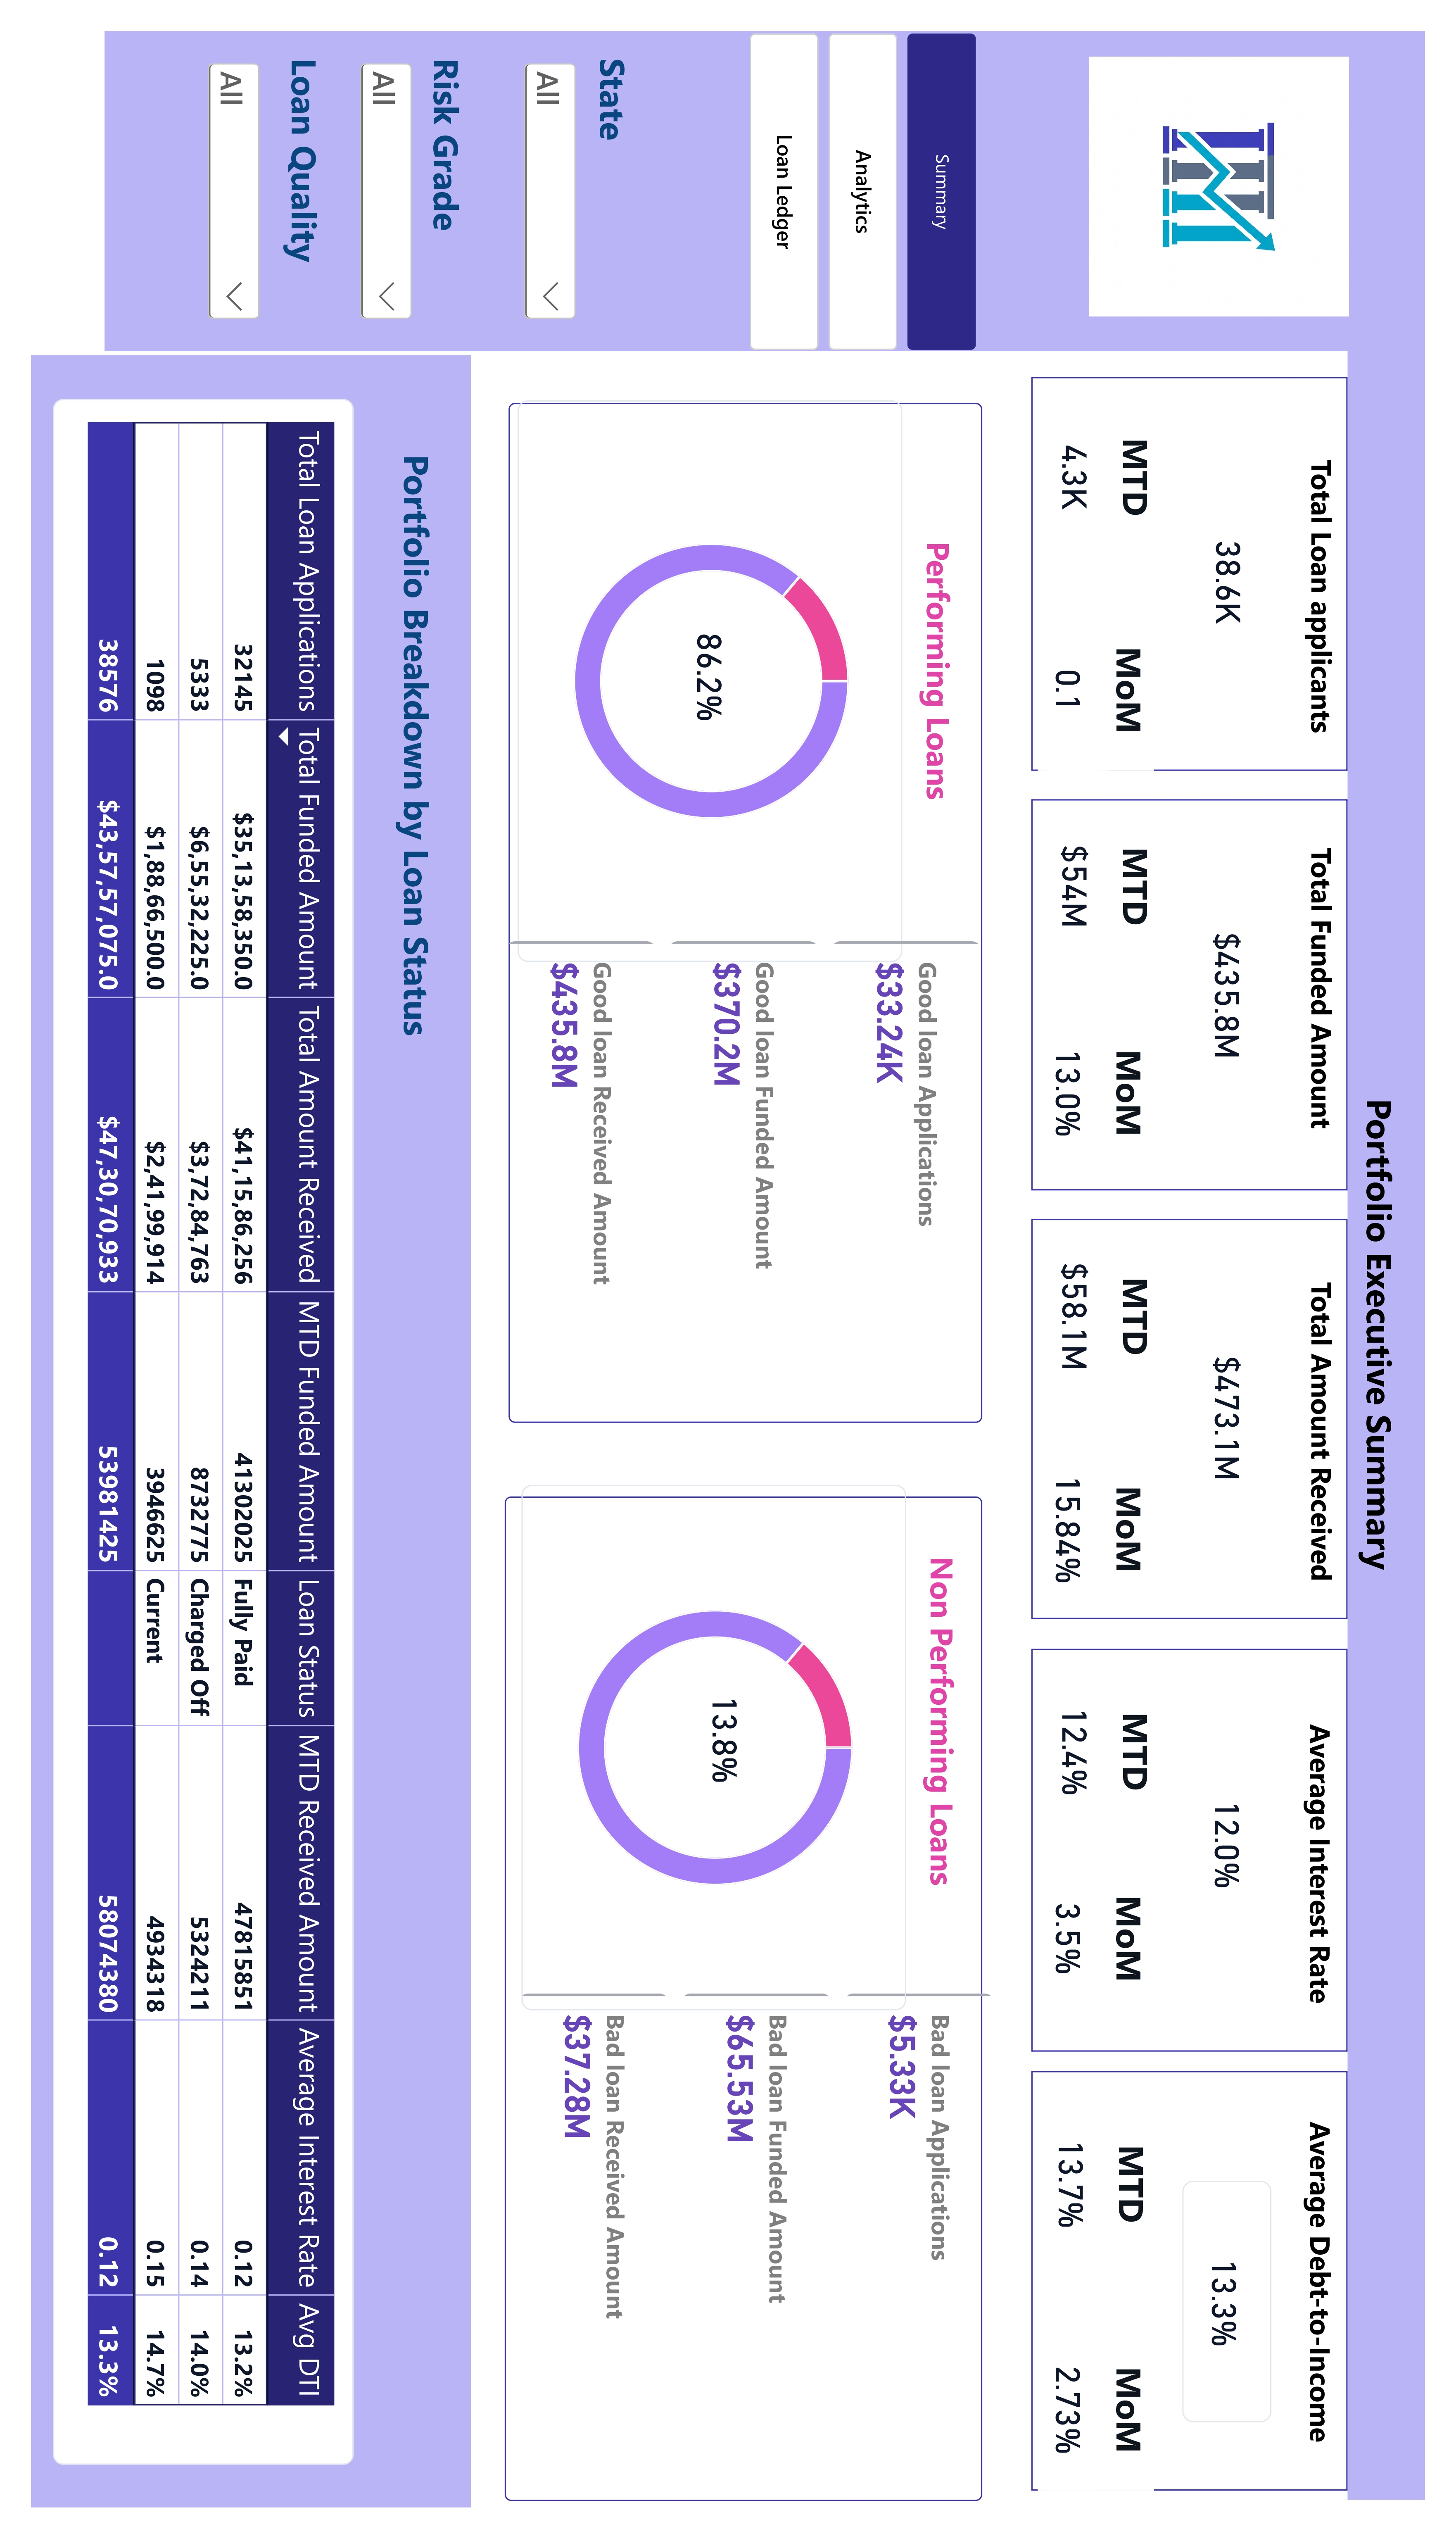

Layout of this report page (visuals, bound fields, positions):
{"tool":"powerbi","page":{"name":"Summary","canvas":[1920,1080],"ordinal":0},"visuals":[{"type":"shape","box":[0,0,247.5,1022.5],"z":0},{"type":"shape","box":[0,0,1911.7,60],"z":1000},{"type":"shape","box":[267.5,60,305,245],"z":2000},{"type":"cardVisual","fields":{"Data":["Bank_Loan_data.Total Loan Applications"]},"box":[345,137.5,165,72.5],"z":3000},{"type":"textbox","box":[327.5,65,220,50],"z":4000},{"type":"cardVisual","title":"MTD","fields":{"Data":["Bank_Loan_data.MTD Loan Applicants"]},"box":[282.5,205,125,95],"z":5000},{"type":"cardVisual","title":"MoM","fields":{"Data":["Bank_Loan_data.MoM Loan Applications"]},"box":[447.5,210,125,90],"z":6000},{"type":"cardVisual","fields":{"Data":["Bank_Loan_data.Total Loan Applications"]},"box":[725,152.5,152.5,72.5],"z":7000},{"type":"textbox","box":[572.5,0,665,65],"z":8000},{"type":"shape","box":[287.5,342.5,790,367.5],"z":9000},{"type":"shape","box":[1134.3,342.5,777.5,367.5],"z":10000},{"type":"cardVisual","fields":{"Data":["Bank_Loan_data.Total Loan Applications"]},"box":[1032.5,160,152.5,72.5],"z":11000},{"type":"cardVisual","fields":{"Data":["Bank_Loan_data.Total Loan Applications"]},"box":[1702.5,160,152.5,72.5],"z":12000},{"type":"cardVisual","fields":{"Data":["Bank_Loan_data.Total Loan Applications"]},"box":[1372.5,160,152.5,72.5],"z":13000},{"type":"cardVisual","title":"MTD","fields":{"Data":["Bank_Loan_data.MTD Loan Applicants"]},"box":[1640,210,125,95],"z":14000},{"type":"cardVisual","title":"MTD","fields":{"Data":["Bank_Loan_data.MTD Loan Applicants"]},"box":[1332.5,210,125,95],"z":15000},{"type":"cardVisual","title":"MTD","fields":{"Data":["Bank_Loan_data.MTD Loan Applicants"]},"box":[945,210,125,95],"z":16000},{"type":"cardVisual","title":"MTD","fields":{"Data":["Bank_Loan_data.MTD Loan Applicants"]},"box":[635,210,125,95],"z":17000},{"type":"shape","box":[920,60,310,245],"z":18000},{"type":"shape","box":[595,60,302.5,245],"z":19000},{"type":"shape","box":[1252.5,60,312.5,245],"z":20000},{"type":"shape","box":[1580,60,325,245],"z":21000},{"type":"cardVisual","fields":{"Data":["Bank_Loan_data.Avg DTI"]},"box":[1682.5,117.5,165,72.5],"z":22000},{"type":"cardVisual","fields":{"Data":["Bank_Loan_data.Average Interest Rate"]},"box":[1312.5,132.5,165,72.5],"z":23000},{"type":"cardVisual","fields":{"Data":["Bank_Loan_data.Total Amount Received"]},"box":[987.5,125,165,72.5],"z":24000},{"type":"cardVisual","fields":{"Data":["Bank_Loan_data.Total Funded Amount"]},"box":[635,137.5,207.5,72.5],"z":25000},{"type":"cardVisual","title":"MTD","fields":{"Data":["Bank_Loan_data.MTD avg DTI"]},"box":[1610,207.5,115,95],"z":26000},{"type":"cardVisual","title":"MTD","fields":{"Data":["Bank_Loan_data.MTD avg Interest Rate"]},"box":[1270,205,125,95],"z":27000},{"type":"donutChart","fields":{"Category":["Bank_Loan_data.Good vs Bad Loan"],"Y":["Bank_Loan_data.Total Loan Applications"]},"box":[277.5,410,435,297.5],"z":28000},{"type":"cardVisual","title":"MTD","fields":{"Data":["Bank_Loan_data.MTD Received Amount"]},"box":[932.5,205,125,95],"z":29000},{"type":"cardVisual","title":"MTD","fields":{"Data":["Bank_Loan_data.MTD Funded Amount"]},"box":[600,205,125,95],"z":30000},{"type":"cardVisual","title":"MoM","fields":{"Data":["Bank_Loan_data.MoM Avg DTI"]},"box":[1780,210,125,90],"z":31000},{"type":"cardVisual","title":"MoM","fields":{"Data":["Bank_Loan_data.MoM avg int rate"]},"box":[1415,210,125,90],"z":32000},{"type":"cardVisual","title":"MoM","fields":{"Data":["Bank_Loan_data.MoM Total Received Amount"]},"box":[1097.5,210,125,90],"z":33000},{"type":"shape","box":[252.5,740,1665,340],"z":34000},{"type":"cardVisual","title":"MoM","fields":{"Data":["Bank_Loan_data.MoM Total Funded Amount"]},"box":[760,210,125,90],"z":35000},{"type":"textbox","box":[1287.5,60,265,57.5],"z":36000},{"type":"textbox","box":[940,65,290,52.5],"z":37000},{"type":"textbox","box":[1610,65,295,50],"z":38000},{"type":"textbox","box":[605,65,272.5,50],"z":39000},{"type":"cardVisual","fields":{"Data":["Bank_Loan_data.Average Interest Rate"]},"box":[1322.5,142.5,165,72.5],"z":40000},{"type":"cardVisual","fields":{"Data":["Bank_Loan_data.Good Loan %"]},"box":[427.5,535,145,37.5],"z":41000},{"type":"textbox","box":[327.5,360,335,50],"z":42000},{"type":"cardVisual","fields":{"Data":["Bank_Loan_data.Good loan Applications","Bank_Loan_data.Good loan Funded Amount","Bank_Loan_data.Good loan Received Amount"]},"box":[705,342.5,372.5,370],"z":43000},{"type":"textbox","box":[1185,357.5,335,47.5],"z":44000},{"type":"cardVisual","fields":{"Data":["Bank_Loan_data.Bad Loan %"]},"box":[1237.5,522.5,170,37.5],"z":45000},{"type":"cardVisual","fields":{"Data":["Bank_Loan_data.Bad loan Applications","Bank_Loan_data.Bad loan Funded Amount","Bank_Loan_data.Bad loan Received Amount"]},"box":[1520,332.5,372.5,370],"z":46000},{"type":"donutChart","fields":{"Category":["Bank_Loan_data.Good vs Bad Loan"],"Y":["Bank_Loan_data.Total Loan Applications"]},"box":[1110,405,407.5,297.5],"z":47000},{"type":"tableEx","fields":{"Values":["Bank_Loan_data.Total Loan Applications","Bank_Loan_data.Total Funded Amount","Bank_Loan_data.Total Amount Received","Bank_Loan_data.MTD Funded Amount","Bank_Loan_data.loan_status","Bank_Loan_data.MTD Received Amount","Bank_Loan_data.Average Interest Rate","Bank_Loan_data.Avg DTI"]},"box":[285,830,1600,232.5],"z":48000},{"type":"textbox","box":[327.5,762.5,245,47.5],"z":49000},{"type":"slicer","fields":{"Values":["Bank_Loan_data.address_state"]},"box":[20,652.5,207.5,50],"z":50000},{"type":"textbox","box":[77.5,610,150,42.5],"z":51000},{"type":"slicer","fields":{"Values":["Bank_Loan_data.address_state","Bank_Loan_data.grade"]},"box":[20,780,207.5,50],"z":52000},{"type":"textbox","box":[77.5,740,122.5,47.5],"z":53000},{"type":"slicer","fields":{"Values":["Bank_Loan_data.purpose"]},"box":[20,897.5,207.5,50],"z":54000},{"type":"textbox","box":[77.5,847.5,150,50],"z":55000},{"type":"pageNavigator","box":[2.6,348.7,248.7,169.2],"z":56000},{"type":"image","box":[0,79.5,248.7,225.6],"z":57000}]}

Visuals, with their boxes on the page's 1920x1080 design canvas (x1, y1, x2, y2). These are canvas units, not pixel positions in the 1456x2541 screenshot, which may show the page scaled, cropped or inside an application window:
shape: [0,0,248,1022]
shape: [0,0,1912,60]
shape: [268,60,572,305]
cardVisual - Bank_Loan_data.Total Loan Applications: [345,138,510,210]
textbox: [328,65,548,115]
"MTD" cardVisual: [282,205,408,300]
"MoM" cardVisual: [448,210,572,300]
cardVisual - Bank_Loan_data.Total Loan Applications: [725,152,878,225]
textbox: [572,0,1238,65]
shape: [288,342,1078,710]
shape: [1134,342,1912,710]
cardVisual - Bank_Loan_data.Total Loan Applications: [1032,160,1185,232]
cardVisual - Bank_Loan_data.Total Loan Applications: [1702,160,1855,232]
cardVisual - Bank_Loan_data.Total Loan Applications: [1372,160,1525,232]
"MTD" cardVisual: [1640,210,1765,305]
"MTD" cardVisual: [1332,210,1458,305]
"MTD" cardVisual: [945,210,1070,305]
"MTD" cardVisual: [635,210,760,305]
shape: [920,60,1230,305]
shape: [595,60,898,305]
shape: [1252,60,1565,305]
shape: [1580,60,1905,305]
cardVisual - Bank_Loan_data.Avg DTI: [1682,118,1848,190]
cardVisual - Bank_Loan_data.Average Interest Rate: [1312,132,1478,205]
cardVisual - Bank_Loan_data.Total Amount Received: [988,125,1152,198]
cardVisual - Bank_Loan_data.Total Funded Amount: [635,138,842,210]
"MTD" cardVisual: [1610,208,1725,302]
"MTD" cardVisual: [1270,205,1395,300]
donutChart - Bank_Loan_data.Good vs Bad Loan x Bank_Loan_data.Total Loan Applications: [278,410,712,708]
"MTD" cardVisual: [932,205,1058,300]
"MTD" cardVisual: [600,205,725,300]
"MoM" cardVisual: [1780,210,1905,300]
"MoM" cardVisual: [1415,210,1540,300]
"MoM" cardVisual: [1098,210,1222,300]
shape: [252,740,1918,1080]
"MoM" cardVisual: [760,210,885,300]
textbox: [1288,60,1552,118]
textbox: [940,65,1230,118]
textbox: [1610,65,1905,115]
textbox: [605,65,878,115]
cardVisual - Bank_Loan_data.Average Interest Rate: [1322,142,1488,215]
cardVisual - Bank_Loan_data.Good Loan %: [428,535,572,572]
textbox: [328,360,662,410]
cardVisual - Bank_Loan_data.Good loan Applications x Bank_Loan_data.Good loan Funded Amount: [705,342,1078,712]
textbox: [1185,358,1520,405]
cardVisual - Bank_Loan_data.Bad Loan %: [1238,522,1408,560]
cardVisual - Bank_Loan_data.Bad loan Applications x Bank_Loan_data.Bad loan Funded Amount: [1520,332,1892,702]
donutChart - Bank_Loan_data.Good vs Bad Loan x Bank_Loan_data.Total Loan Applications: [1110,405,1518,702]
tableEx - Bank_Loan_data.Total Loan Applications x Bank_Loan_data.Total Funded Amount: [285,830,1885,1062]
textbox: [328,762,572,810]
slicer - Bank_Loan_data.address_state: [20,652,228,702]
textbox: [78,610,228,652]
slicer - Bank_Loan_data.address_state x Bank_Loan_data.grade: [20,780,228,830]
textbox: [78,740,200,788]
slicer - Bank_Loan_data.purpose: [20,898,228,948]
textbox: [78,848,228,898]
pageNavigator: [3,349,251,518]
image: [0,80,249,305]
